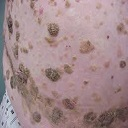Actinic: (4, 13, 30, 94), (86, 108, 128, 126), (44, 67, 62, 82), (79, 39, 95, 54), (46, 22, 59, 37), (32, 111, 42, 124)
